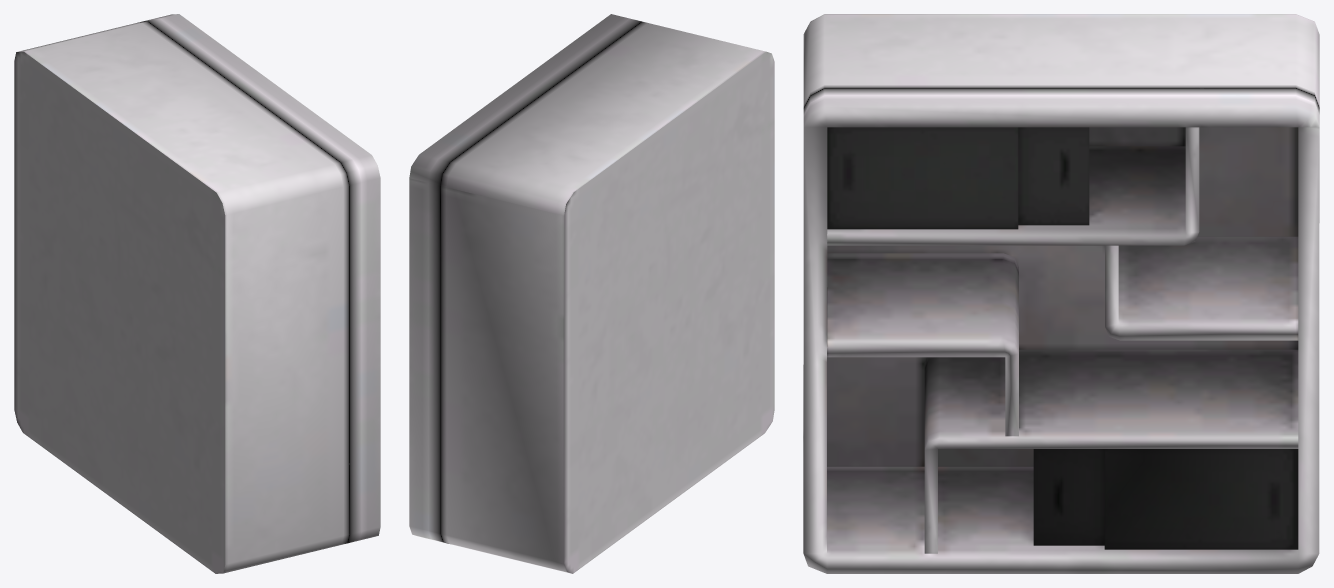
File: Shelf05.FBX
The picture shows the model from 3 angles, left to right: view 1: azimuth 30°, elevation 25°; view 2: azimuth 150°, elevation 25°; view 3: azimuth 270°, elevation 25°; orthographic projection. The views are drawn at different scales.
Parts seen in each view (by area): view 1: Shelf05; view 2: Shelf05; view 3: Shelf05.
Part boxes in pixels (box(x1,y1,x2,y2)): Shelf05: box(14, 14, 380, 573); Shelf05: box(409, 14, 774, 573); Shelf05: box(803, 14, 1319, 573).
Size of the model in its own units: 0.8502 by 2 by 2.
